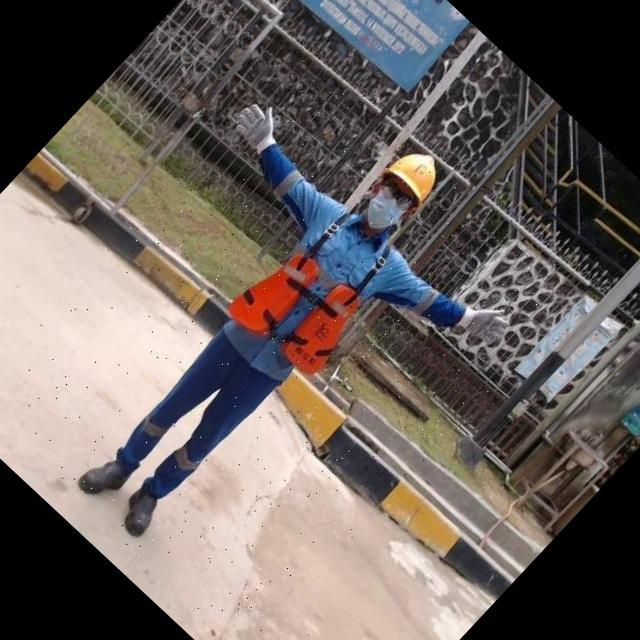hard_hat: (373, 128, 463, 218)
safety_vest: (225, 234, 376, 386)
vehicle: (0, 29, 588, 640)
work_boots: (68, 442, 142, 517), (106, 479, 176, 549)
